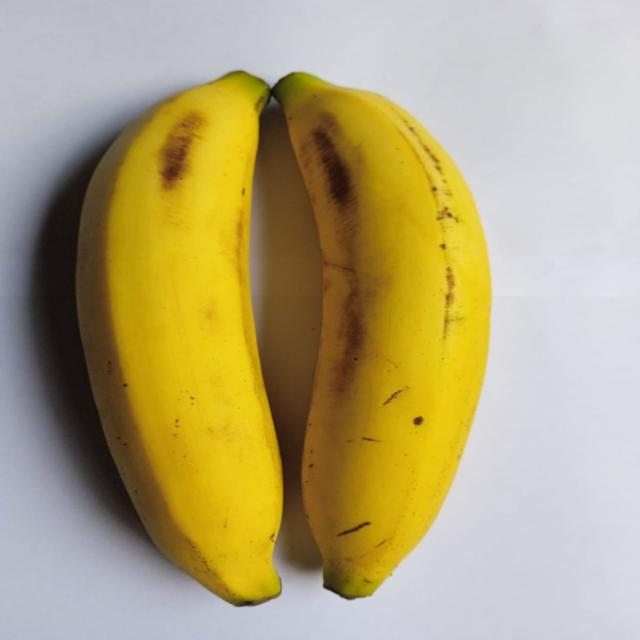banana: (274, 73, 491, 597), (77, 72, 282, 605)
